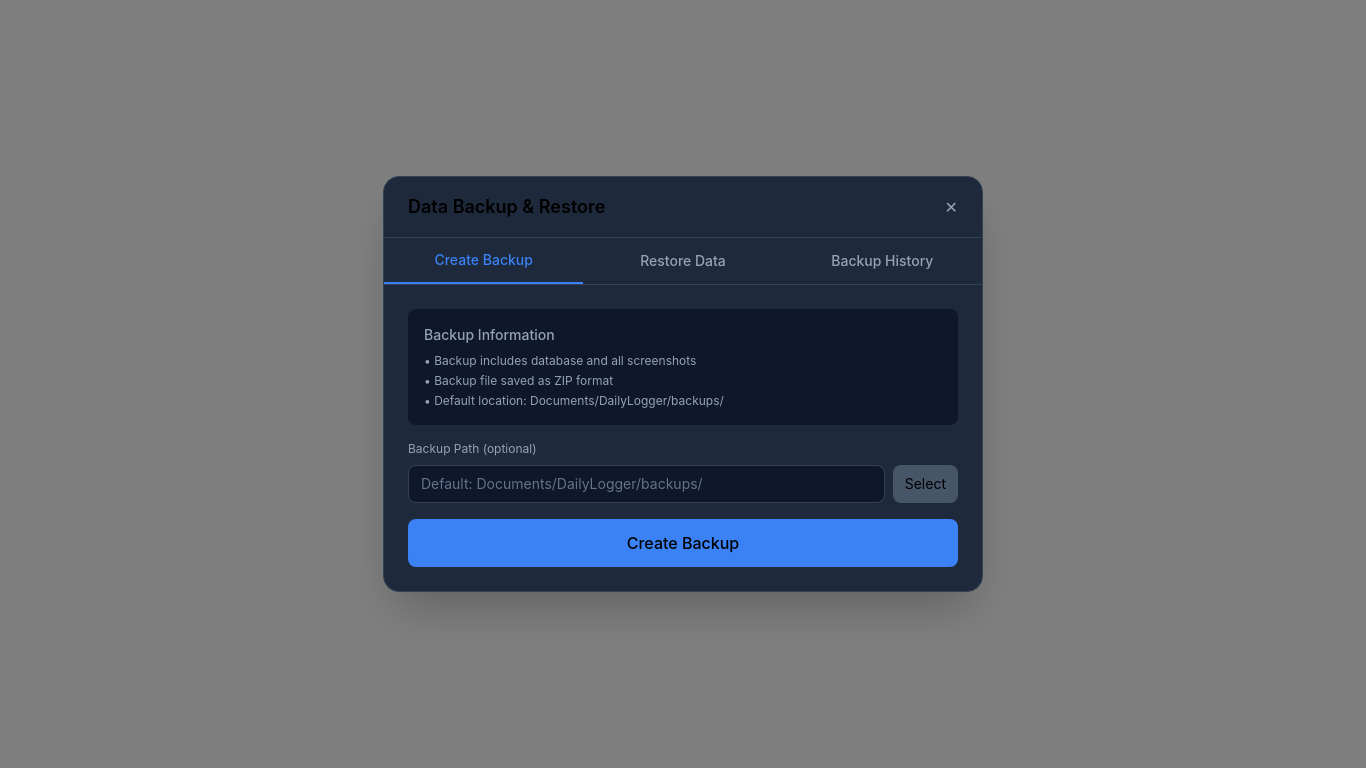
Scenario: BackupModal › Tab Navigation › switches to restore tab when clicked
Step 1. Click the button "Restore Data" → (683, 261), box [583,238,783,284]
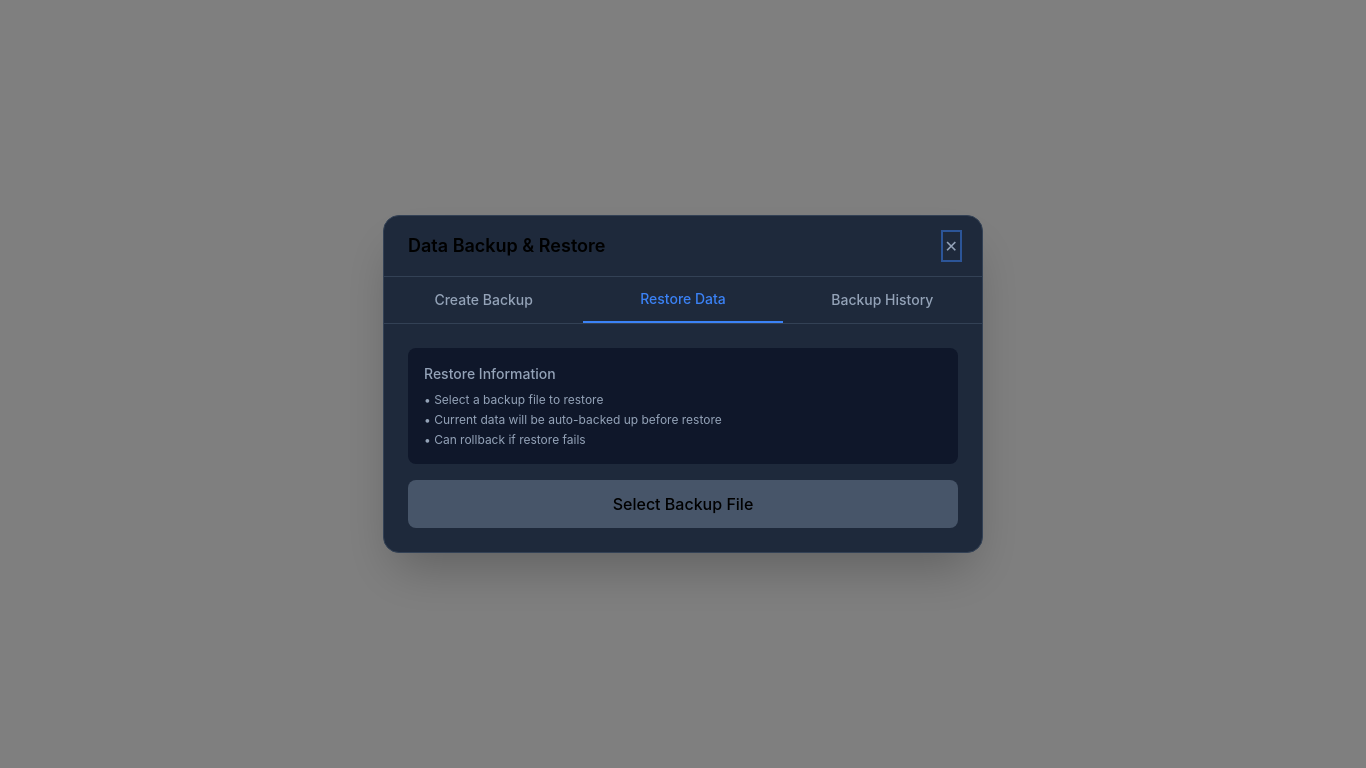
Expected: the text "Restore Information" is shown, [424,365,556,382]
Expected: the text "Select Backup File" is shown, [408,480,958,528]
